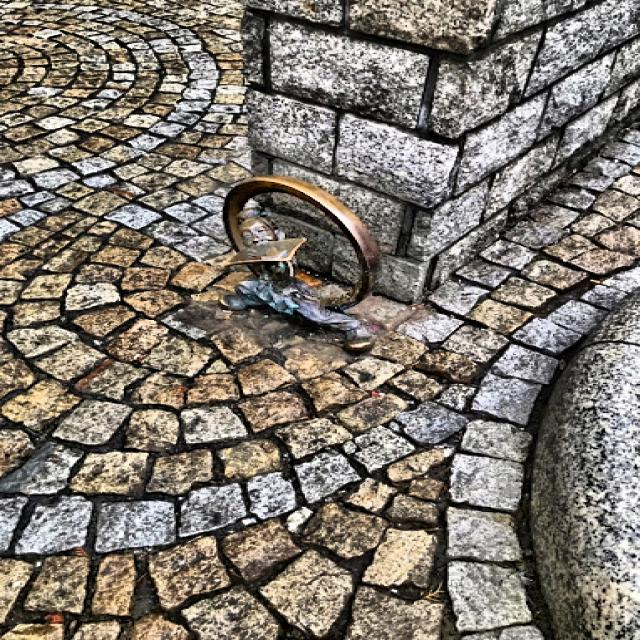TianTian: (220, 176, 379, 352)
